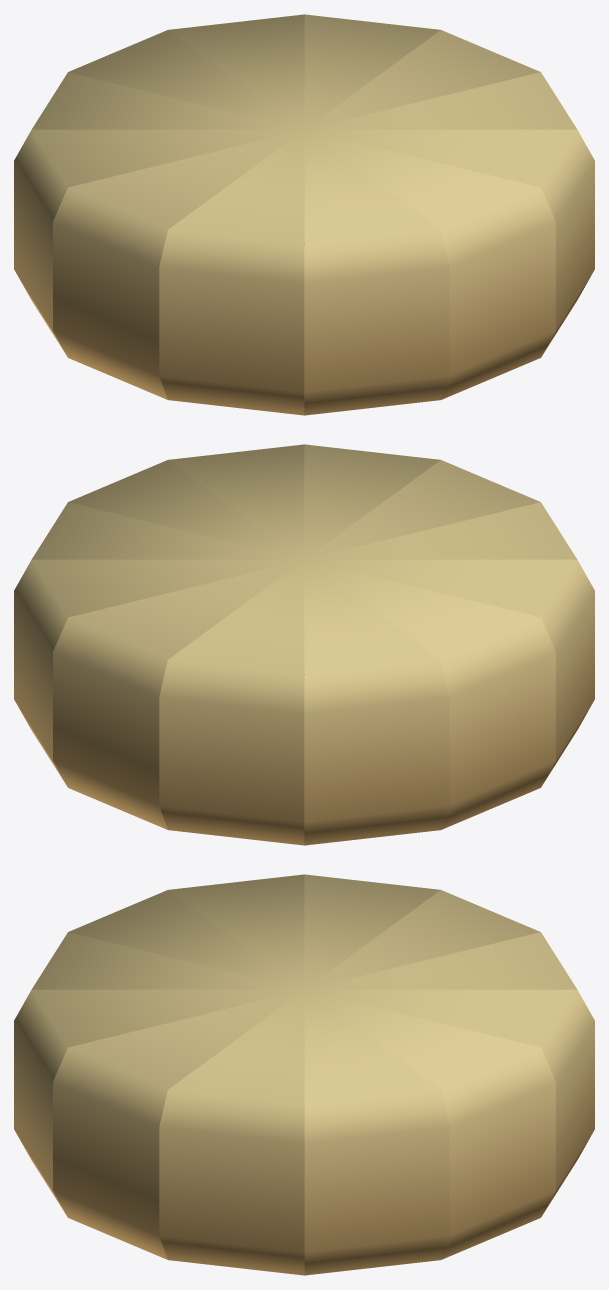
The model's file is cheese.glb.
3 renders of one model, top to bottom at view 1: azimuth 30°, elevation 25°; view 2: azimuth 150°, elevation 25°; view 3: azimuth 270°, elevation 25°, orthographic.
Visible parts, largest first — view 1: cheese; view 2: cheese; view 3: cheese.
Part boxes in pixels (x1,y1,x2,y2): cheese: (14,14,594,415); cheese: (14,444,594,845); cheese: (14,874,594,1275).
Bounding box in the file's own units: 0.68 × 0.22 × 0.68.
